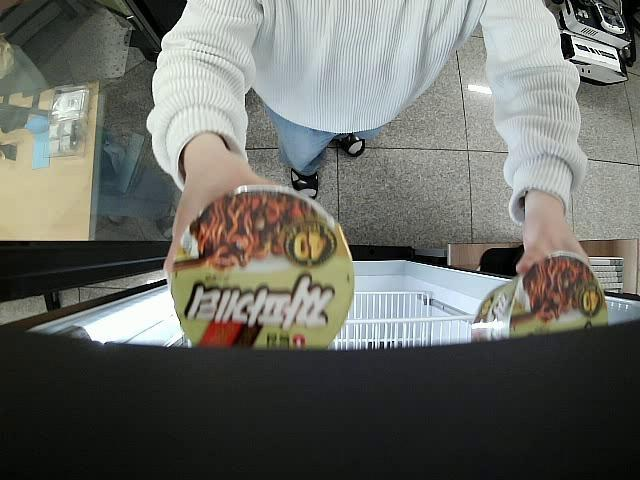03_chapagetti_L: (171, 186, 356, 351), (470, 254, 613, 345)
